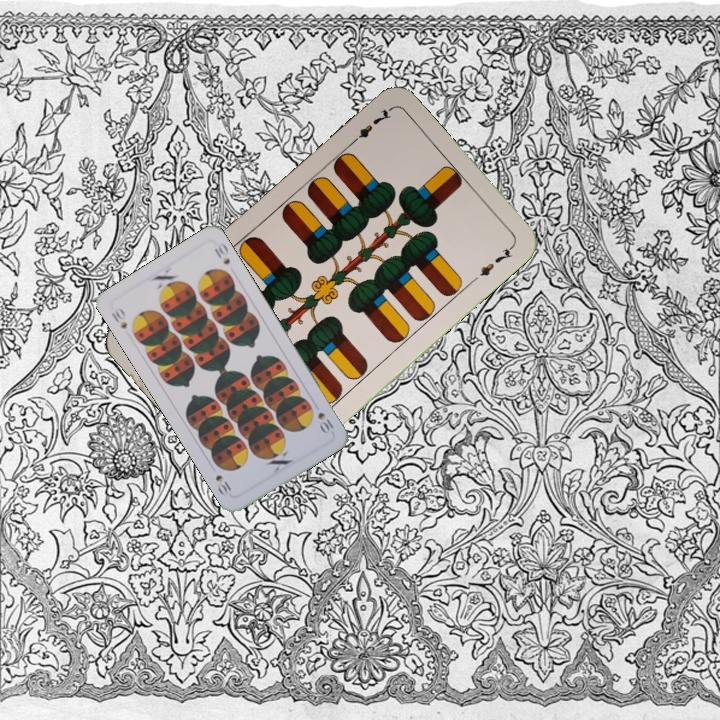E7: (345, 105, 394, 149)
S10: (107, 304, 130, 331), (314, 408, 336, 435)
